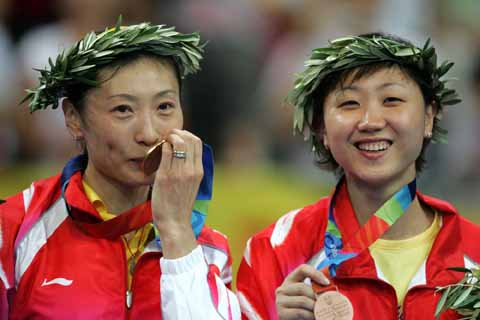face: (82, 59, 185, 186), (327, 66, 424, 179)
